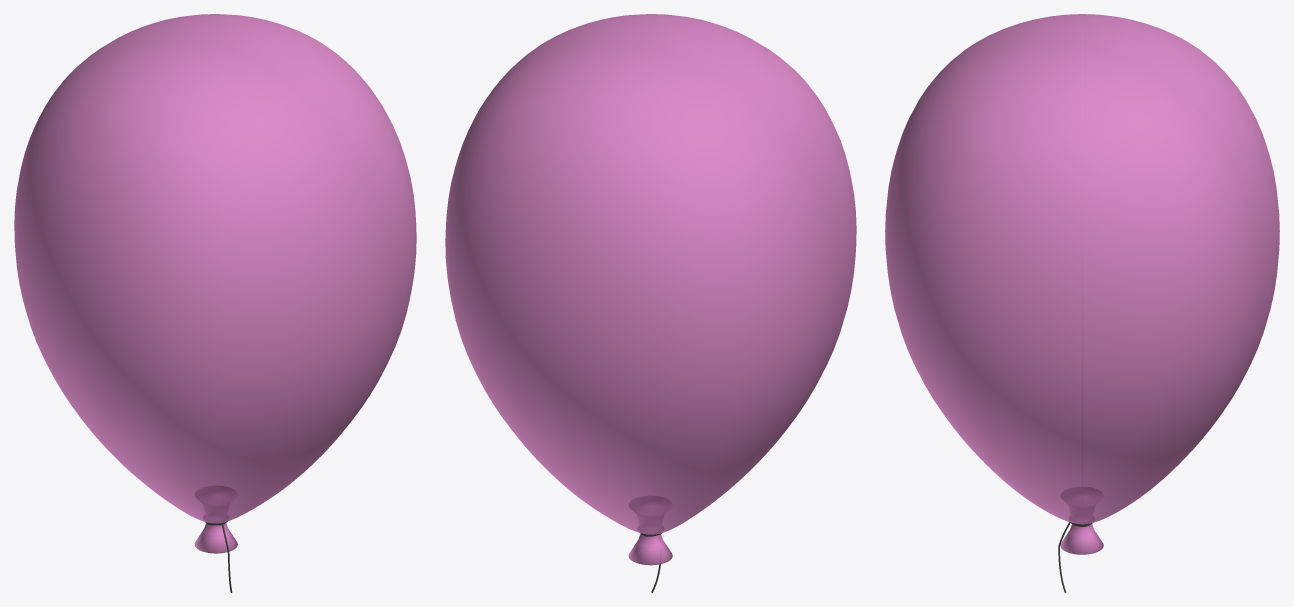
Rendered from ballon_rose.glb.
The picture shows the model from 3 angles, left to right: view 1: azimuth 30°, elevation 25°; view 2: azimuth 150°, elevation 25°; view 3: azimuth 270°, elevation 25°; orthographic projection. The views are drawn at different scales.
Visible parts, largest first — view 1: Cube.003, Cylinder.006; view 2: Cube.003, Cylinder.006; view 3: Cube.003, Cylinder.006.
Part boxes in pixels (x1,y1,x2,y2): Cube.003: [14, 14, 416, 523]; Cylinder.006: [194, 486, 237, 553]; Cube.003: [445, 14, 856, 534]; Cylinder.006: [628, 496, 672, 565]; Cube.003: [885, 14, 1279, 524]; Cylinder.006: [1060, 487, 1103, 554].
Bounding box in the file's own units: 71.29 × 110 × 71.29.
